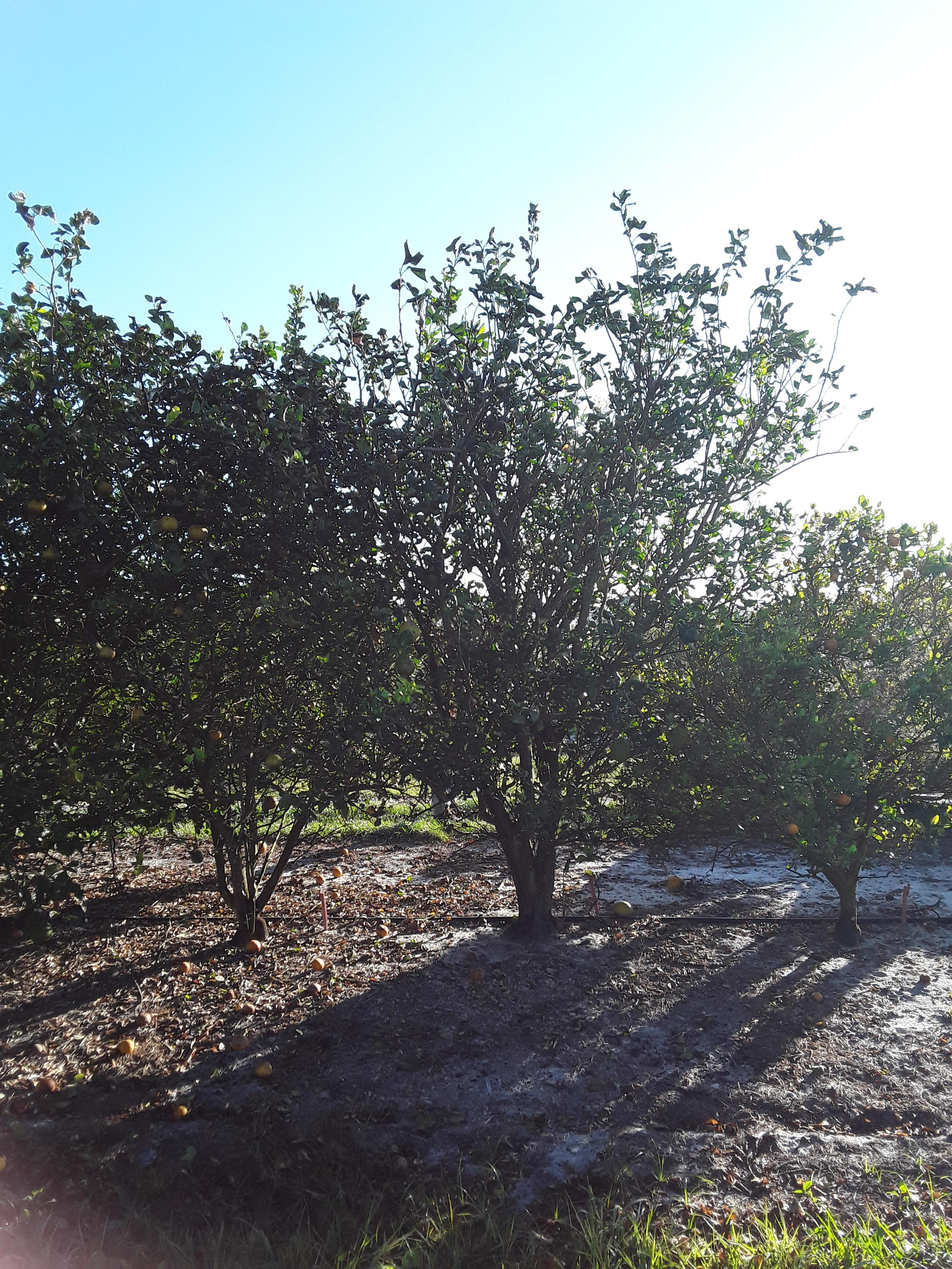fruit_on_ground: (126, 705, 154, 734), (667, 721, 693, 751), (608, 735, 633, 766), (186, 520, 212, 545), (396, 619, 422, 644), (26, 492, 51, 517), (392, 652, 417, 677), (558, 439, 584, 463), (171, 600, 193, 626), (39, 544, 65, 565), (186, 847, 209, 869), (259, 751, 286, 769), (491, 418, 513, 440), (201, 727, 229, 743), (159, 513, 178, 535), (98, 643, 121, 661), (94, 480, 117, 497), (159, 483, 180, 501), (158, 648, 176, 669), (112, 453, 133, 470), (261, 794, 280, 810), (346, 331, 366, 346), (386, 450, 403, 467), (823, 636, 840, 653), (885, 533, 903, 549), (838, 794, 854, 811), (858, 525, 873, 543), (194, 590, 212, 605), (787, 821, 801, 840), (821, 512, 835, 529), (884, 731, 898, 748), (866, 632, 881, 647), (752, 1249, 764, 1266), (863, 571, 876, 585), (828, 571, 843, 582), (944, 563, 952, 582), (902, 568, 913, 580)
fruit_on_tree: (229, 1027, 253, 1056), (663, 872, 687, 895), (467, 963, 488, 989), (238, 997, 259, 1023), (611, 899, 635, 919), (9, 923, 30, 945), (119, 1036, 138, 1058), (257, 1064, 276, 1086), (253, 835, 270, 859), (373, 920, 391, 941), (46, 1078, 64, 1099), (177, 956, 194, 978), (309, 952, 325, 975), (247, 935, 264, 956), (329, 863, 345, 883), (312, 873, 330, 890), (174, 1107, 189, 1126), (329, 889, 343, 906), (341, 844, 352, 859)
